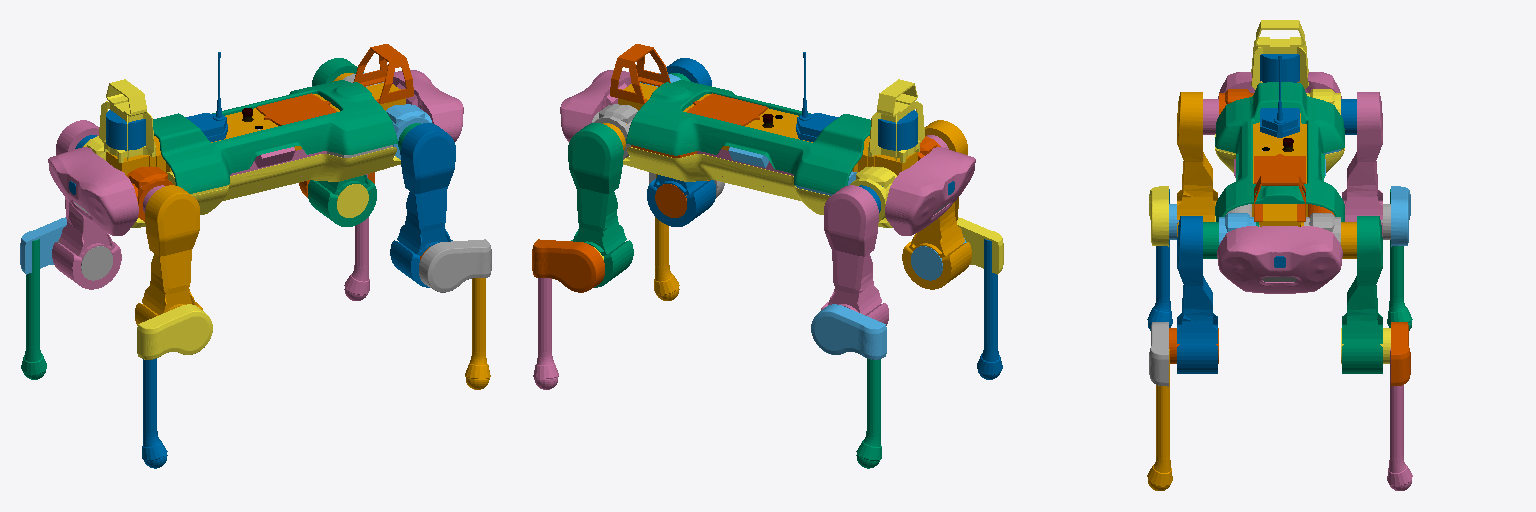
--- Render facts (derived) ---
3 views of the same robot in one strip: view 1: azimuth 30°, elevation 25°; view 2: azimuth 150°, elevation 25°; view 3: azimuth 270°, elevation 25° (orthographic).
Robot: anymal — 78 links, 77 joints (12 revolute, 65 fixed); root link base; default pose: all joints at 0.
Links seen in each view (by area): view 1: top_shell, RF_thigh_fixed, RH_thigh_fixed, face_rear, bottom_shell, LH_thigh_fixed, RH_shank_fixed, RF_shank_fixed, LF_thigh_fixed, lidar_cage, base, face_front (+13 smaller); view 2: top_shell, LF_thigh_fixed, LH_thigh_fixed, face_rear, bottom_shell, RH_thigh_fixed, LH_shank_fixed, LF_shank_fixed, RF_thigh_fixed, lidar_cage, base, face_front (+13 smaller); view 3: top_shell, face_front, LF_thigh_fixed, RF_thigh_fixed, RH_thigh_fixed, LH_thigh_fixed, base, lidar_cage, LF_FOOT, RF_FOOT, LH_FOOT, RH_FOOT (+14 smaller).
Link boxes in pixels (x1,y1,x2,y2): top_shell: (153,80,397,193); RF_thigh_fixed: (390,123,455,287); RH_thigh_fixed: (135,185,202,325); face_rear: (48,147,138,235); bottom_shell: (131,147,400,227); LH_thigh_fixed: (52,120,121,289); RH_shank_fixed: (137,304,212,359); RF_shank_fixed: (419,239,491,292); LF_thigh_fixed: (308,58,376,226); lidar_cage: (99,79,155,162); base: (106,83,405,175); face_front: (392,70,463,141); top_shell: (626,80,870,193); LF_thigh_fixed: (568,123,633,287); LH_thigh_fixed: (821,185,888,325); face_rear: (885,147,975,235); bottom_shell: (623,147,892,227); RH_thigh_fixed: (902,120,971,289); LH_shank_fixed: (811,304,886,359); LF_shank_fixed: (532,239,604,292); RF_thigh_fixed: (647,58,715,226); lidar_cage: (868,79,924,162); base: (618,83,917,175); face_front: (560,70,631,141); top_shell: (1215,82,1344,221); face_front: (1217,226,1342,293); LF_thigh_fixed: (1342,216,1382,373); RF_thigh_fixed: (1177,216,1217,373); RH_thigh_fixed: (1177,92,1217,236); LH_thigh_fixed: (1342,92,1382,236); base: (1252,113,1307,226); lidar_cage: (1251,20,1308,89); LF_FOOT: (1387,349,1412,490); RF_FOOT: (1147,349,1172,490); LH_FOOT: (1387,189,1412,330); RH_FOOT: (1147,189,1172,330).
Size in the robot's own frame: 1.05 by 0.6518 by 0.9164 metres.
Meshes: 19 distinct files referenced, 45 mesh visuals loaded (19 Collada DAE).

The robot description file, URDF, robot "anymal":
<?xml version="1.0" encoding="utf-8"?>
<!-- =================================================================================== -->
<!--   Copyright 2020 ANYbotics, https://www.anybotics.com                               -->
<!-- =================================================================================== -->
<!-- This file contains the description of the ANYmal C robot. -->
<robot name="anymal">
    <!-- Base link -->
    <link name="base">
        <visual>
            <origin rpy="0 0 0" xyz="0 0 0"/>
            <geometry>
                <mesh filename="package://pentapede/meshes/base.dae" scale="1.0 1.0 1.0"/>
            </geometry>
        </visual>
        <collision>
            <origin rpy="0 0 0" xyz="0 0 0"/>
            <geometry>
                <box size="0.58 0.14 0.18"/>
            </geometry>
        </collision>
        <collision>
            <origin rpy="0 1.57079632679 0" xyz="0.2175 0.07 0"/>
            <geometry>
                <cylinder length="0.145" radius="0.09"/>
            </geometry>
        </collision>
        <collision>
            <origin rpy="0 1.57079632679 0" xyz="-0.2175 0.07 0"/>
            <geometry>
                <cylinder length="0.145" radius="0.09"/>
            </geometry>
        </collision>
        <collision>
            <origin rpy="0 1.57079632679 0" xyz="0.2175 -0.07 0"/>
            <geometry>
                <cylinder length="0.145" radius="0.09"/>
            </geometry>
        </collision>
        <collision>
            <origin rpy="0 1.57079632679 0" xyz="-0.2175 -0.07 0"/>
            <geometry>
                <cylinder length="0.145" radius="0.09"/>
            </geometry>
        </collision>
        <!-- Shell self filtering -->
        <self_filter>
            <origin rpy="0 0 0" xyz="0 0 0"/>
            <geometry>
                <box size="1.05 0.5 0.5"/>
            </geometry>
        </self_filter>
    </link>
    <!-- Fixed joint to add dummy inertia link -->
    <joint name="base_to_base_inertia" type="fixed">
        <parent link="base"/>
        <child link="base_inertia"/>
        <origin rpy="0 0 0" xyz="0 0 0"/>
    </joint>
    <!-- Dummy inertia link, because KDL cannot have inertia on the base link -->
    <link name="base_inertia">
        <inertial>
            <origin rpy="0 0 0" xyz="-0.018 -0.002 0.024"/>
            <mass value="6.222"/>
            <inertia ixx="0.017938806" ixy="0.00387963" ixz="0.001500772" iyy="0.370887745" iyz="6.8963e-05" izz="0.372497653"/>
        </inertial>
    </link>
    <!-- Fixed joint base topshell -->
    <joint name="base_top_shell" type="fixed">
        <parent link="base"/>
        <child link="top_shell"/>
        <origin rpy="0 0 0" xyz="0 0 0"/>
    </joint>
    <!-- Top shell link -->
    <link name="top_shell">
        <visual>
            <origin rpy="0 0 0" xyz="0 0 0"/>
            <geometry>
                <mesh filename="package://pentapede/meshes/top_shell.dae" scale="1.0 1.0 1.0"/>
            </geometry>
        </visual>
        <inertial>
            <origin rpy="0 0 0" xyz="-0.00777 -0.00013 0.06523"/>
            <mass value="0.534"/>
            <inertia ixx="0.00664789486" ixy="1.247923e-05" ixz="0.00053990097" iyy="0.02587392411" iyz="3.7614e-07" izz="0.03152303792"/>
        </inertial>
    </link>
    <!-- Fixed joint base topshell -->
    <joint name="base_bottom_shell" type="fixed">
        <parent link="base"/>
        <child link="bottom_shell"/>
        <origin rpy="0 0 0" xyz="0 0 0"/>
    </joint>
    <!-- Bottom shell link -->
    <link name="bottom_shell">
        <visual>
            <origin rpy="0 0 0" xyz="0 0 0"/>
            <geometry>
                <mesh filename="package://pentapede/meshes/bottom_shell.dae" scale="1.0 1.0 1.0"/>
            </geometry>
        </visual>
        <inertial>
            <origin rpy="0 0 0" xyz="-0.00333 1e-05 -0.07705"/>
            <mass value="1.15"/>
            <inertia ixx="0.00927353677" ixy="5.41222e-06" ixz="9.039821e-05" iyy="0.06134388239" iyz="2.3042e-07" izz="0.06853531465"/>
        </inertial>
    </link>
    <!-- Fixed joint base remote -->
    <joint name="base_remote" type="fixed">
        <parent link="base"/>
        <child link="remote"/>
        <origin rpy="0 0 0" xyz="0 0 0"/>
    </joint>
    <!-- Remote link -->
    <link name="remote">
        <visual>
            <origin rpy="0 0 0" xyz="0 0 0"/>
            <geometry>
                <mesh filename="package://pentapede/meshes/remote.dae" scale="1.0 1.0 1.0"/>
            </geometry>
        </visual>
        <inertial>
            <origin rpy="0 0 0" xyz="-0.171 0.002 0.096"/>
            <mass value="0.3262"/>
            <inertia ixx="0.000528486" ixy="4.547e-05" ixz="1.10327e-05" iyy="0.001165035" iyz="7.4e-07" izz="0.00124026"/>
        </inertial>
    </link>
    <!-- Fixed joint base handle -->
    <joint name="base_handle" type="fixed">
        <parent link="base"/>
        <child link="handle"/>
        <origin rpy="0 0 0" xyz="0 0 0"/>
    </joint>
    <!-- Handle link -->
    <link name="handle">
        <visual>
            <origin rpy="0 0 0" xyz="0 0 0"/>
            <geometry>
                <mesh filename="package://pentapede/meshes/handle.dae" scale="1.0 1.0 1.0"/>
            </geometry>
        </visual>
        <inertial>
            <origin rpy="0 0 0" xyz="0.37801 0.0 0.1372"/>
            <mass value="0.314"/>
            <inertia ixx="0.001525739" ixy="0.0" ixz="6.272e-05" iyy="0.00071584" iyz="1e-09" izz="0.001164779"/>
        </inertial>
    </link>
    <!-- Fixed joint base face -->
    <joint name="base_face_front" type="fixed">
        <parent link="base"/>
        <child link="face_front"/>
        <origin rpy="0 0 -0.0" xyz="0.4145 0 0"/>
    </joint>
    <!-- Shell link -->
    <link name="face_front">
        <visual>
            <origin rpy="0 0 0" xyz="0 0 0"/>
            <geometry>
                <mesh filename="package://pentapede/meshes/face.dae" scale="1.0 1.0 1.0"/>
            </geometry>
        </visual>
        <collision>
            <origin rpy="0 0 0" xyz="0.055 0 0"/>
            <geometry>
                <box size="0.11 0.14 0.18"/>
            </geometry>
        </collision>
        <collision>
            <origin rpy="0 1.57079632679 0" xyz="0.055 0.07 0"/>
            <geometry>
                <cylinder length="0.11" radius="0.09"/>
            </geometry>
        </collision>
        <collision>
            <origin rpy="0 1.57079632679 0" xyz="0.055 -0.07 0"/>
            <geometry>
                <cylinder length="0.11" radius="0.09"/>
            </geometry>
        </collision>
        <inertial>
            <origin rpy="0 0 0" xyz="0.042 -0.001 0.004"/>
            <mass value="0.73"/>
            <inertia ixx="0.005238611" ixy="1.7609e-05" ixz="7.2167e-05" iyy="0.002643098" iyz="1.9548e-05" izz="0.004325938"/>
        </inertial>
    </link>
    <!-- Camera joint -->
    <!-- Is located between the two back screw holes at ground level. -->
    <joint name="face_front_to_depth_camera_front_camera" type="fixed">
        <parent link="face_front"/>
        <child link="depth_camera_front_camera"/>
        <origin rpy="0.0 0.523598775598 0" xyz="0.04715 0.0 -0.0292"/>
    </joint>
    <!-- Camera link -->
    <link name="depth_camera_front_camera">
        <visual>
            <origin rpy="0 0 0" xyz="0.0 0.0 0.0"/>
            <geometry>
                <mesh filename="package://pentapede/meshes/depth_camera.dae" scale="1.0 1.0 1.0"/>
            </geometry>
        </visual>
        <inertial>
            <origin rpy="0 0 0" xyz="-0.021 -0.002 0.025"/>
            <mass value="0.16043"/>
            <inertia ixx="0.000637051" ixy="0.000484569" ixz="0.000424211" iyy="0.000929402" iyz="5.138e-06" izz="0.000484569"/>
        </inertial>
    </link>
    <!-- Camera parent joint -->
    <!-- Frame lies on the left ir camera according to any_realsense2_camera urdf. -->
    <joint name="depth_camera_front_camera_to_camera_parent" type="fixed">
        <parent link="depth_camera_front_camera"/>
        <child link="depth_camera_front_camera_parent"/>
        <origin rpy="0.0 0.0 0.0" xyz="0.0255 0.0175 0.0"/>
    </joint>
    <!-- Camera parent link -->
    <link name="depth_camera_front_camera_parent"/>
    <!-- Depth optical frame joint -->
    <joint name="depth_camera_front_camera_parent_to_depth_optical_frame" type="fixed">
        <parent link="depth_camera_front_camera_parent"/>
        <child link="depth_camera_front_depth_optical_frame"/>
        <origin rpy="-1.57079632679 0.0 -1.57079632679" xyz="0.0 0.0 0.0"/>
    </joint>
    <!-- Depth optical frame link -->
    <link name="depth_camera_front_depth_optical_frame"/>
    <!-- Camera color frame joint -->
    <joint name="depth_camera_front_camera_parent_to_color_frame" type="fixed">
        <parent link="depth_camera_front_camera_parent"/>
        <child link="depth_camera_front_color_frame"/>
        <origin rpy="0 0 0" xyz="0 0.015 0"/>
    </joint>
    <!-- Camera color frame link -->
    <link name="depth_camera_front_color_frame"/>
    <!-- Camera color optical joint -->
    <joint name="depth_camera_front_color_frame_to_color_optical_frame" type="fixed">
        <parent link="depth_camera_front_color_frame"/>
        <child link="depth_camera_front_color_optical_frame"/>
        <origin rpy="-1.57079632679 0.0 -1.57079632679" xyz="0.0 0.0 0.0"/>
    </joint>
    <!-- Camera color optical link -->
    <link name="depth_camera_front_color_optical_frame"/>
    <!-- Camera joint -->
    <!-- Is located in the center of the mounting points. -->
    <joint name="face_front_to_wide_angle_camera_front_camera" type="fixed">
        <parent link="face_front"/>
        <child link="wide_angle_camera_front_camera"/>
        <origin rpy="0 0 0" xyz="0.09850 0.0 0.01497"/>
    </joint>
    <!-- Camera link -->
    <link name="wide_angle_camera_front_camera">
        <visual>
            <origin rpy="0 0 0" xyz="0.0 0.0 0.0"/>
            <geometry>
                <mesh filename="package://pentapede/meshes/wide_angle_camera.dae" scale="1.0 1.0 1.0"/>
            </geometry>
        </visual>
        <inertial>
            <origin rpy="0 0 0" xyz="-0.053 -0.001 0.025"/>
            <mass value="0.287"/>
            <inertia ixx="0.000559232" ixy="1.6875e-05" ixz="0.000423761" iyy="0.000946504" iyz="1.3234e-07" izz="0.000493052"/>
        </inertial>
    </link>
    <!-- Camera parent joint -->
    <joint name="wide_angle_camera_front_camera_to_camera_parent" type="fixed">
        <parent link="wide_angle_camera_front_camera"/>
        <child link="wide_angle_camera_front_camera_parent"/>
        <origin rpy="-1.57079632679 0.0 -1.57079632679" xyz="0.0 0.0 0.0"/>
    </joint>
    <!-- Camera parent link -->
    <link name="wide_angle_camera_front_camera_parent"/>
    <!-- Fixed joint base face -->
    <joint name="base_face_rear" type="fixed">
        <parent link="base"/>
        <child link="face_rear"/>
        <origin rpy="0 0 3.14159265359" xyz="-0.4145 0 0"/>
    </joint>
    <!-- Shell link -->
    <link name="face_rear">
        <visual>
            <origin rpy="0 0 0" xyz="0 0 0"/>
            <geometry>
                <mesh filename="package://pentapede/meshes/face.dae" scale="1.0 1.0 1.0"/>
            </geometry>
        </visual>
        <collision>
            <origin rpy="0 0 0" xyz="0.055 0 0"/>
            <geometry>
                <box size="0.11 0.14 0.18"/>
            </geometry>
        </collision>
        <collision>
            <origin rpy="0 1.57079632679 0" xyz="0.055 0.07 0"/>
            <geometry>
                <cylinder length="0.11" radius="0.09"/>
            </geometry>
        </collision>
        <collision>
            <origin rpy="0 1.57079632679 0" xyz="0.055 -0.07 0"/>
            <geometry>
                <cylinder length="0.11" radius="0.09"/>
            </geometry>
        </collision>
        <inertial>
            <origin rpy="0 0 0" xyz="0.042 -0.001 0.004"/>
            <mass value="0.73"/>
            <inertia ixx="0.005238611" ixy="1.7609e-05" ixz="7.2167e-05" iyy="0.002643098" iyz="1.9548e-05" izz="0.004325938"/>
        </inertial>
    </link>
    <!-- Camera joint -->
    <!-- Is located between the two back screw holes at ground level. -->
    <joint name="face_rear_to_depth_camera_rear_camera" type="fixed">
        <parent link="face_rear"/>
        <child link="depth_camera_rear_camera"/>
        <origin rpy="0.0 0.523598775598 0" xyz="0.04715 0.0 -0.0292"/>
    </joint>
    <!-- Camera link -->
    <link name="depth_camera_rear_camera">
        <visual>
            <origin rpy="0 0 0" xyz="0.0 0.0 0.0"/>
            <geometry>
                <mesh filename="package://pentapede/meshes/depth_camera.dae" scale="1.0 1.0 1.0"/>
            </geometry>
        </visual>
        <inertial>
            <origin rpy="0 0 0" xyz="-0.021 -0.002 0.025"/>
            <mass value="0.16043"/>
            <inertia ixx="0.000637051" ixy="0.000484569" ixz="0.000424211" iyy="0.000929402" iyz="5.138e-06" izz="0.000484569"/>
        </inertial>
    </link>
    <!-- Camera parent joint -->
    <!-- Frame lies on the left ir camera according to any_realsense2_camera urdf. -->
    <joint name="depth_camera_rear_camera_to_camera_parent" type="fixed">
        <parent link="depth_camera_rear_camera"/>
        <child link="depth_camera_rear_camera_parent"/>
        <origin rpy="0.0 0.0 0.0" xyz="0.0255 0.0175 0.0"/>
    </joint>
    <!-- Camera parent link -->
    <link name="depth_camera_rear_camera_parent"/>
    <!-- Depth optical frame joint -->
    <joint name="depth_camera_rear_camera_parent_to_depth_optical_frame" type="fixed">
        <parent link="depth_camera_rear_camera_parent"/>
        <child link="depth_camera_rear_depth_optical_frame"/>
        <origin rpy="-1.57079632679 0.0 -1.57079632679" xyz="0.0 0.0 0.0"/>
    </joint>
    <!-- Depth optical frame link -->
    <link name="depth_camera_rear_depth_optical_frame"/>
    <!-- Camera color frame joint -->
    <joint name="depth_camera_rear_camera_parent_to_color_frame" type="fixed">
        <parent link="depth_camera_rear_camera_parent"/>
        <child link="depth_camera_rear_color_frame"/>
        <origin rpy="0 0 0" xyz="0 0.015 0"/>
    </joint>
    <!-- Camera color frame link -->
    <link name="depth_camera_rear_color_frame"/>
    <!-- Camera color optical joint -->
    <joint name="depth_camera_rear_color_frame_to_color_optical_frame" type="fixed">
        <parent link="depth_camera_rear_color_frame"/>
        <child link="depth_camera_rear_color_optical_frame"/>
        <origin rpy="-1.57079632679 0.0 -1.57079632679" xyz="0.0 0.0 0.0"/>
    </joint>
    <!-- Camera color optical link -->
    <link name="depth_camera_rear_color_optical_frame"/>
    <!-- Camera joint -->
    <!-- Is located in the center of the mounting points. -->
    <joint name="face_rear_to_wide_angle_camera_rear_camera" type="fixed">
        <parent link="face_rear"/>
        <child link="wide_angle_camera_rear_camera"/>
        <origin rpy="0 0 0" xyz="0.09850 0.0 0.01497"/>
    </joint>
    <!-- Camera link -->
    <link name="wide_angle_camera_rear_camera">
        <visual>
            <origin rpy="0 0 0" xyz="0.0 0.0 0.0"/>
            <geometry>
                <mesh filename="package://pentapede/meshes/wide_angle_camera.dae" scale="1.0 1.0 1.0"/>
            </geometry>
        </visual>
        <inertial>
            <origin rpy="0 0 0" xyz="-0.053 -0.001 0.025"/>
            <mass value="0.287"/>
            <inertia ixx="0.000559232" ixy="1.6875e-05" ixz="0.000423761" iyy="0.000946504" iyz="1.3234e-07" izz="0.000493052"/>
        </inertial>
    </link>
    <!-- Camera parent joint -->
    <joint name="wide_angle_camera_rear_camera_to_camera_parent" type="fixed">
        <parent link="wide_angle_camera_rear_camera"/>
        <child link="wide_angle_camera_rear_camera_parent"/>
        <origin rpy="-1.57079632679 0.0 -1.57079632679" xyz="0.0 0.0 0.0"/>
    </joint>
    <!-- Camera parent link -->
    <link name="wide_angle_camera_rear_camera_parent"/>
    <!-- Fixed joint base battery -->
    <joint name="base_battery" type="fixed">
        <parent link="base"/>
        <child link="battery"/>
        <origin rpy="0 0 0" xyz="0 0 0"/>
    </joint>
    <!-- Shell link -->
    <link name="battery">
        <visual>
            <origin rpy="0 0 0" xyz="0 0 0"/>
            <geometry>
                <mesh filename="package://pentapede/meshes/battery.dae" scale="1.0 1.0 1.0"/>
            </geometry>
        </visual>
        <inertial>
            <origin rpy="0 0 0" xyz="-0.00067 -0.00023 -0.03362"/>
            <mass value="5.53425"/>
            <inertia ixx="0.00749474794" ixy="0.00016686282" ixz="7.82763e-05" iyy="0.0722338913" iyz="1.42902e-06" izz="0.07482717535"/>
        </inertial>
    </link>
    <!-- Fixed joint to add docking  -->
    <joint name="base_to_docking_hatch_cover" type="fixed">
        <parent link="base"/>
        <child link="docking_hatch_cover"/>
        <origin rpy="0 0 0" xyz="0.343 0.0 -0.07"/>
    </joint>
    <!-- Hatch cover link -->
    <link name="docking_hatch_cover">
        <!--  TODO(fgiraldez): add visual    -->
        <inertial>
            <origin rpy="0 0 0" xyz="-0.003 0.0 0.005"/>
            <mass value="0.065"/>
            <inertia ixx="0.00063283" ixy="0.0" ixz="3.45e-07" iyy="0.00110971" iyz="0.0" izz="0.00171883"/>
        </inertial>
    </link>
    <link name="imu_link">
        <visual>
            <origin rpy="0 0 0" xyz="0 0 0.005"/>
            <geometry>
                <box size="0.024 0.024 0.01"/>
            </geometry>
            <material name="orange"/>
        </visual>
        <collision>
            <origin rpy="0 0 0" xyz="0 0 0.005"/>
            <geometry>
                <box size="0.024 0.024 0.01"/>
            </geometry>
        </collision>
        <inertial>
            <mass value="0.01"/>
            <origin xyz="0 0 0"/>
            <inertia ixx="5.63333333333e-07" ixy="0.0" ixz="0.0" iyy="9.6e-07" iyz="0.0" izz="5.63333333333e-07"/>
        </inertial>
    </link>
    <joint name="imu_joint" type="fixed">
        <parent link="base"/>
        <child link="imu_link"/>
        <origin rpy="0.0 0.0 1.57079632679" xyz="0.2488 0.00835 0.04628"/>
    </joint>
    <!-- Camera joint -->
    <!-- Is located between the two back screw holes at ground level. -->
    <joint name="base_to_depth_camera_left_camera" type="fixed">
        <parent link="base"/>
        <child link="depth_camera_left_camera"/>
        <origin rpy="0.0 0.523598775598 1.57079632679" xyz="0.0 0.07646 0.02905"/>
    </joint>
    <!-- Camera link -->
    <link name="depth_camera_left_camera">
        <visual>
            <origin rpy="0 0 0" xyz="0.0 0.0 0.0"/>
            <geometry>
                <mesh filename="package://pentapede/meshes/depth_camera.dae" scale="1.0 1.0 1.0"/>
            </geometry>
        </visual>
        <inertial>
            <origin rpy="0 0 0" xyz="-0.021 -0.002 0.025"/>
            <mass value="0.16043"/>
            <inertia ixx="0.000637051" ixy="0.000484569" ixz="0.000424211" iyy="0.000929402" iyz="5.138e-06" izz="0.000484569"/>
        </inertial>
    </link>
    <!-- Camera parent joint -->
    <!-- Frame lies on the left ir camera according to any_realsense2_camera urdf. -->
    <joint name="depth_camera_left_camera_to_camera_parent" type="fixed">
        <parent link="depth_camera_left_camera"/>
        <child link="depth_camera_left_camera_parent"/>
        <origin rpy="0.0 0.0 0.0" xyz="0.0255 0.0175 0.0"/>
    </joint>
    <!-- Camera parent link -->
    <link name="depth_camera_left_camera_parent"/>
    <!-- Depth optical frame joint -->
    <joint name="depth_camera_left_camera_parent_to_depth_optical_frame" type="fixed">
        <parent link="depth_camera_left_camera_parent"/>
        <child link="depth_camera_left_depth_optical_frame"/>
        <origin rpy="-1.57079632679 0.0 -1.57079632679" xyz="0.0 0.0 0.0"/>
    </joint>
    <!-- Depth optical frame link -->
    <link name="depth_camera_left_depth_optical_frame"/>
    <!-- Camera color frame joint -->
    <joint name="depth_camera_left_camera_parent_to_color_frame" type="fixed">
        <parent link="depth_camera_left_camera_parent"/>
        <child link="depth_camera_left_color_frame"/>
        <origin rpy="0 0 0" xyz="0 0.015 0"/>
    </joint>
    <!-- Camera color frame link -->
    <link name="depth_camera_left_color_frame"/>
    <!-- Camera color optical joint -->
    <joint name="depth_camera_left_color_frame_to_color_optical_frame" type="fixed">
        <parent link="depth_camera_left_color_frame"/>
        <child link="depth_camera_left_color_optical_frame"/>
        <origin rpy="-1.57079632679 0.0 -1.57079632679" xyz="0.0 0.0 0.0"/>
    </joint>
    <!-- Camera color optical link -->
    <link name="depth_camera_left_color_optical_frame"/>
    <!-- Camera joint -->
    <!-- Is located between the two back screw holes at ground level. -->
    <joint name="base_to_depth_camera_right_camera" type="fixed">
        <parent link="base"/>
        <child link="depth_camera_right_camera"/>
        <origin rpy="0.0 0.523598775598 -1.57079632679" xyz="0.0 -0.07646 0.02905"/>
    </joint>
    <!-- Camera link -->
    <link name="depth_camera_right_camera">
        <visual>
            <origin rpy="0 0 0" xyz="0.0 0.0 0.0"/>
            <geometry>
                <mesh filename="package://pentapede/meshes/depth_camera.dae" scale="1.0 1.0 1.0"/>
            </geometry>
        </visual>
        <inertial>
            <origin rpy="0 0 0" xyz="-0.021 -0.002 0.025"/>
            <mass value="0.16043"/>
            <inertia ixx="0.000637051" ixy="0.000484569" ixz="0.000424211" iyy="0.000929402" iyz="5.138e-06" izz="0.000484569"/>
        </inertial>
    </link>
    <!-- Camera parent joint -->
    <!-- Frame lies on the left ir camera according to any_realsense2_camera urdf. -->
    <joint name="depth_camera_right_camera_to_camera_parent" type="fixed">
        <parent link="depth_camera_right_camera"/>
        <child link="depth_camera_right_camera_parent"/>
        <origin rpy="0.0 0.0 0.0" xyz="0.0255 0.0175 0.0"/>
    </joint>
    <!-- Camera parent link -->
    <link name="depth_camera_right_camera_parent"/>
    <!-- Depth optical frame joint -->
    <joint name="depth_camera_right_camera_parent_to_depth_optical_frame" type="fixed">
        <parent link="depth_camera_right_camera_parent"/>
        <child link="depth_camera_right_depth_optical_frame"/>
        <origin rpy="-1.57079632679 0.0 -1.57079632679" xyz="0.0 0.0 0.0"/>
    </joint>
    <!-- Depth optical frame link -->
    <link name="depth_camera_right_depth_optical_frame"/>
    <!-- Camera color frame joint -->
    <joint name="depth_camera_right_camera_parent_to_color_frame" type="fixed">
        <parent link="depth_camera_right_camera_parent"/>
        <child link="depth_camera_right_color_frame"/>
        <origin rpy="0 0 0" xyz="0 0.015 0"/>
    </joint>
    <!-- Camera color frame link -->
    <link name="depth_camera_right_color_frame"/>
    <!-- Camera color optical joint -->
    <joint name="depth_camera_right_color_frame_to_color_optical_frame" type="fixed">
        <parent link="depth_camera_right_color_frame"/>
        <child link="depth_camera_right_color_optical_frame"/>
        <origin rpy="-1.57079632679 0.0 -1.57079632679" xyz="0.0 0.0 0.0"/>
    </joint>
    <!-- Camera color optical link -->
    <link name="depth_camera_right_color_optical_frame"/>
    <!-- parent to cage joint, located between mounting plate on trunk and the cage -->
    <joint name="base_to_lidar_cage" type="fixed">
        <parent link="base"/>
        <child link="lidar_cage"/>
        <origin rpy="0 0 0" xyz="-0.364 0.0 0.0735"/>
    </joint>
    <!-- Velodyne cage link -->
    <link name="lidar_cage">
        <visual>
            <origin rpy="0.0 0.0 0.0" xyz="0.0 0.0 0.0"/>
            <geometry>
                <mesh filename="package://pentapede/meshes/lidar_cage.dae" scale="1.0 1.0 1.0"/>
            </geometry>
        </visual>
        <collision>
            <origin rpy="0 0 0" xyz="0 0 0.06"/>
            <geometry>
                <cylinder length="0.12" radius="0.07"/>
            </geometry>
        </collision>
        <inertial>
            <origin rpy="0.0 0.0 0.0" xyz="0.002 0.0 0.099"/>
            <mass value="0.545"/>
            <inertia ixx="0.003156254" ixy="0.0" ixz="1.0992e-05" iyy="0.002357216" iyz="0.0" izz="0.001326455"/>
        </inertial>
    </link>
    <!-- parent to sensor joint -->
    <joint name="lidar_cage_to_lidar" type="fixed">
        <parent link="lidar_cage"/>
        <child link="lidar"/>
        <origin rpy="0.0 0.0 -1.57079632679" xyz="0.0 0.0 0.0687"/>
    </joint>
    <!-- Velodyne sensor link -->
    <link name="lidar">
        <inertial>
            <origin rpy="0.0 0.0 0.0" xyz="-0.012 0.001 -0.008"/>
            <mass value="0.695"/>
            <inertia ixx="0.000846765" ixy="6.9565e-05" ixz="0.00027111" iyy="0.001367583" iyz="5.8984e-05" izz="0.001363673"/>
        </inertial>
        <visual>
            <origin xyz="0 0 0"/>
            <geometry>
                <mesh filename="package://pentapede/meshes/lidar.dae"/>
            </geometry>
        </visual>
    </link>
    <!-- joint base HAA -->
    <joint name="base_LF_HAA" type="fixed">
        <parent link="base"/>
        <child link="LF_HAA"/>
        <origin rpy="2.61799387799 0 0.0" xyz="0.2999 0.104 0.0"/>
    </joint>
    <!-- Drive link -->
    <link name="LF_HAA">
        <visual>
            <origin rpy="0 0 0" xyz="0 0 0"/>
            <geometry>
                <mesh filename="package://pentapede/meshes/drive.dae" scale="1.0 1.0 1.0"/>
            </geometry>
        </visual>
        <inertial>
            <origin rpy="0 0 0" xyz="-0.063 7e-05 0.00046"/>
            <mass value="2.04"/>
            <inertia ixx="0.001053013" ixy="4.527e-05" ixz="8.855e-05" iyy="0.001805509" iyz="9.909e-05" izz="0.001765827"/>
        </inertial>
    </link>
    <!-- joint Drive output -->
    <joint name="LF_HAA" type="revolute">
        <parent link="LF_HAA"/>
        <child link="LF_HIP"/>
        <origin rpy="0 0 0" xyz="0 0 0"/>
        <axis xyz="1 0 0"/>
        <limit effort="80.0" lower="-0.72" upper="0.49" velocity="20"/>
        <dynamics damping="0.0" friction="0.0"/>
    </joint>
    <!-- Drive output link -->
    <link name="LF_HIP">
        <inertial>
            <origin rpy="0 0 0" xyz="0 0 0"/>
            <mass value="0.001"/>
            <inertia ixx="0.000001" ixy="0.0" ixz="0.0" iyy="0.000001" iyz="0.0" izz="0.000001"/>
        </inertial>
    </link>
    <!-- joint HAA hip -->
    <joint name="LF_HIP_LF_hip_fixed" type="fixed">
        <parent link="LF_HIP"/>
        <child link="LF_hip_fixed"/>
        <origin rpy="-2.61799387799 0 0.0" xyz="0 0 0"/>
    </joint>
    <!-- Hip link -->
    <link name="LF_hip_fixed">
        <visual>
            <origin rpy="0 0 0.0" xyz="0 0 0"/>
            <geometry>
                <mesh filename="package://pentapede/meshes/hip_l.dae" scale="1.0 1.0 1.0"/>
            </geometry>
        </visual>
        <inertial>
            <origin rpy="0 0 0" xyz="0.048 0.008 -0.003"/>
            <mass value="0.74"/>
            <inertia ixx="0.001393106" ixy="8.4012e-05" ixz="2.3378e-05" iyy="0.003798579" iyz="7.1319e-05" izz="0.003897509"/>
        </inertial>
    </link>
    <!-- joint hip HFE -->
    <joint name="LF_hip_fixed_LF_HFE" type="fixed">
        <parent link="LF_hip_fixed"/>
        <child link="LF_HFE"/>
        <origin rpy="0 0 1.57079632679" xyz="0.0599 0.08381 0.0"/>
    </joint>
    <!-- Drive link -->
    <link name="LF_HFE">
        <visual>
            <origin rpy="0 0 0" xyz="0 0 0"/>
            <geometry>
                <mesh filename="package://pentapede/meshes/drive.dae" scale="1.0 1.0 1.0"/>
            </geometry>
        </visual>
        <collision>
            <origin rpy="0 1.57079632679 0" xyz="-0.07 0 0"/>
            <geometry>
                <cylinder length="0.14" radius="0.05"/>
            </geometry>
        </collision>
        <inertial>
            <origin rpy="0 0 0" xyz="-0.063 7e-05 0.00046"/>
            <mass value="2.04"/>
            <inertia ixx="0.001053013" ixy="4.527e-05" ixz="8.855e-05" iyy="0.001805509" iyz="9.909e-05" izz="0.001765827"/>
        </inertial>
    </link>
    <!-- joint Drive output -->
    <joint name="LF_HFE" type="revolute">
        <parent link="LF_HFE"/>
        <child link="LF_THIGH"/>
        <origin rpy="0 0 0" xyz="0 0 0"/>
        <axis xyz="1 0 0"/>
        <limit effort="80.0" lower="-9.42477796077" upper="9.42477796077" velocity="20"/>
        <dynamics damping="0.0" friction="0.0"/>
    </joint>
    <!-- Drive output link -->
    <link name="LF_THIGH">
        <inertial>
            <origin rpy="0 0 0" xyz="0 0 0"/>
            <mass value="0.001"/>
            <inertia ixx="0.000001" ixy="0.0" ixz="0.0" iyy="0.000001" iyz="0.0" izz="0.000001"/>
        </inertial>
    </link>
    <!-- joint HFE thigh -->
    <joint name="LF_THIGH_LF_thigh_fixed" type="fixed">
        <parent link="LF_THIGH"/>
        <child link="LF_thigh_fixed"/>
        <origin rpy="0 0 -1.57079632679" xyz="0 0 0"/>
    </joint>
    <!-- Thigh link -->
    <link name="LF_thigh_fixed">
        <visual>
            <origin rpy="0 0 0.0" xyz="0 0 0"/>
            <geometry>
                <mesh filename="package://pentapede/meshes/thigh.dae" scale="1.0 1.0 1.0"/>
            </geometry>
        </visual>
        <!-- Thigh collision -->
        <collision>
            <origin rpy="1.57079632679 0 0" xyz="0 0.04 0"/>
            <geometry>
                <cylinder length="0.08" radius="0.065"/>
            </geometry>
        </collision>
        <collision>
            <origin rpy="0 0 0" xyz="0 0.03 -0.1413135"/>
            <geometry>
                <box size="0.075 0.06 0.282627"/>
            </geometry>
        </collision>
        <inertial>
            <origin rpy="0 0 0" xyz="0.0 0.018 -0.169"/>
            <mass value="1.03"/>
            <inertia ixx="0.018644469" ixy="5.2e-08" ixz="1.0157e-05" iyy="0.019312599" iyz="0.002520077" izz="0.002838361"/>
        </inertial>
    </link>
    <!-- joint thigh KFE -->
    <joint name="LF_thigh_fixed_LF_KFE" type="fixed">
        <parent link="LF_thigh_fixed"/>
        <child link="LF_KFE"/>
        <origin rpy="0 0 1.57079632679" xyz="0.0 0.1003 -0.285"/>
    </joint>
    <!-- Drive link -->
    <link name="LF_KFE">
        <visual>
            <origin rpy="0 0 0" xyz="0 0 0"/>
            <geometry>
                <mesh filename="package://pentapede/meshes/drive.dae" scale="1.0 1.0 1.0"/>
            </geometry>
        </visual>
        <collision>
            <origin rpy="0 1.57079632679 0" xyz="-0.07 0 0"/>
            <geometry>
                <cylinder length="0.14" radius="0.05"/>
            </geometry>
        </collision>
        <inertial>
            <origin rpy="0 0 0" xyz="-0.063 7e-05 0.00046"/>
            <mass value="2.04"/>
            <inertia ixx="0.001053013" ixy="4.527e-05" ixz="8.855e-05" iyy="0.001805509" iyz="9.909e-05" izz="0.001765827"/>
        </inertial>
    </link>
    <!-- joint Drive output -->
    <joint name="LF_KFE" type="revolute">
        <parent link="LF_KFE"/>
        <child link="LF_SHANK"/>
        <origin rpy="0 0 0" xyz="0 0 0"/>
        <axis xyz="1 0 0"/>
        <limit effort="80.0" lower="-9.42477796077" upper="9.42477796077" velocity="20"/>
        <dynamics damping="0.0" friction="0.0"/>
    </joint>
    <!-- Drive output link -->
    <link name="LF_SHANK">
        <inertial>
            <origin rpy="0 0 0" xyz="0 0 0"/>
            <mass value="0.001"/>
            <inertia ixx="0.000001" ixy="0.0" ixz="0.0" iyy="0.000001" iyz="0.0" izz="0.000001"/>
        </inertial>
    </link>
    <!-- joint KFE shank -->
    <joint name="LF_shank_LF_shank_fixed" type="fixed">
        <parent link="LF_SHANK"/>
        <child link="LF_shank_fixed"/>
        <origin rpy="0 0 -1.57079632679" xyz="0 0 0"/>
    </joint>
    <!-- Shank link -->
    <link name="LF_shank_fixed">
        <visual>
            <origin rpy="0 0 0.0" xyz="0 0 0"/>
            <geometry>
                <mesh filename="package://pentapede/meshes/shank_l.dae" scale="1.0 1.0 1.0"/>
            </geometry>
        </visual>
        <!-- Shank collision -->
        <!-- <collision>
            <origin rpy="1.57079632679 0 0" xyz="0 0.02 0"/>
            <geometry>
                <cylinder length="0.04" radius="0.06"/>
            </geometry>
        </collision>
        <collision>
            <origin rpy="1.57079632679 0 0" xyz="0.057499 0.02 0"/>
            <geometry>
                <box size="0.114998 0.0675 0.04"/>
            </geometry>
        </collision> -->
        <inertial>
            <origin rpy="0 0 0" xyz="0.03463 0.00688 0.00098"/>
            <mass value="0.33742"/>
            <inertia ixx="0.00032748005" ixy="2.142561e-05" ixz="1.33942e-05" iyy="0.00110974122" iyz="7.601e-08" izz="0.00089388521"/>
        </inertial>
    </link>
    <!-- Leg configurations: xx (knees bent inwards), xo (knees bent backwards) -->
    <!-- joint shank foot -->
    <joint name="LF_shank_fixed_LF_FOOT" type="fixed">
        <parent link="LF_shank_fixed"/>
        <child link="LF_FOOT"/>
        <origin rpy="0 0 0" xyz="0.08795 0.01305 -0.33797"/>
    </joint>
    <!-- Foot link -->
    <link name="LF_FOOT">
        <visual>
            <origin rpy="0 0 -0.785398163397" xyz="0 0 0"/>
            <geometry>
                <mesh filename="package://pentapede/meshes/foot.dae" scale="1.0 1.0 1.0"/>
            </geometry>
        </visual>
        <!-- Adapter collision -->
        <collision>
            <origin rpy="0 0 0" xyz="0 0 0.168985"/>
            <geometry>
                <cylinder length="0.282504" radius="0.0175"/>
            </geometry>
        </collision>
        <!-- Foot collision -->
        <collision>
            <origin xyz="0 0 0.0225"/>
            <geometry>
                <sphere radius="0.03"/>
            </geometry>
        </collision>
        <inertial>
            <origin rpy="0 0 0" xyz="0.00948 -0.00948 0.1468"/>
            <mass value="0.25"/>
            <inertia ixx="0.00317174097" ixy="2.63048e-06" ixz="6.815581e-05" iyy="0.00317174092" iyz="6.815583e-05" izz="8.319196e-05"/>
        </inertial>
    </link>
    <!-- joint base HAA -->
    <joint name="base_RF_HAA" type="fixed">
        <parent link="base"/>
        <child link="RF_HAA"/>
        <origin rpy="-2.61799387799 0 0.0" xyz="0.2999 -0.104 0.0"/>
    </joint>
    <!-- Drive link -->
    <link name="RF_HAA">
        <visual>
            <origin rpy="0 0 0" xyz="0 0 0"/>
            <geometry>
                <mesh filename="package://pentapede/meshes/drive.dae" scale="1.0 1.0 1.0"/>
            </geometry>
        </visual>
        <inertial>
            <origin rpy="0 0 0" xyz="-0.063 7e-05 0.00046"/>
            <mass value="2.04"/>
            <inertia ixx="0.001053013" ixy="4.527e-05" ixz="8.855e-05" iyy="0.001805509" iyz="9.909e-05" izz="0.001765827"/>
        </inertial>
    </link>
    <!-- joint Drive output -->
    <joint name="RF_HAA" type="revolute">
        <parent link="RF_HAA"/>
        <child link="RF_HIP"/>
        <origin rpy="0 0 0" xyz="0 0 0"/>
        <axis xyz="1 0 0"/>
        <limit effort="80.0" lower="-0.49" upper="0.72" velocity="20"/>
        <dynamics damping="0.0" friction="0.0"/>
    </joint>
    <!-- Drive output link -->
    <link name="RF_HIP">
        <inertial>
            <origin rpy="0 0 0" xyz="0 0 0"/>
            <mass value="0.001"/>
            <inertia ixx="0.000001" ixy="0.0" ixz="0.0" iyy="0.000001" iyz="0.0" izz="0.000001"/>
        </inertial>
    </link>
    <!-- joint HAA hip -->
    <joint name="RF_HIP_RF_hip_fixed" type="fixed">
        <parent link="RF_HIP"/>
        <child link="RF_hip_fixed"/>
        <origin rpy="2.61799387799 0 0.0" xyz="0 0 0"/>
    </joint>
    <!-- Hip link -->
    <link name="RF_hip_fixed">
        <visual>
            <origin rpy="0 0 0.0" xyz="0 0 0"/>
            <geometry>
                <mesh filename="package://pentapede/meshes/hip_r.dae" scale="1.0 1.0 1.0"/>
            </geometry>
        </visual>
        <inertial>
            <origin rpy="0 0 0" xyz="0.048 -0.008 -0.003"/>
            <mass value="0.74"/>
            <inertia ixx="0.001393106" ixy="-8.4012e-05" ixz="2.3378e-05" iyy="0.003798579" iyz="-7.1319e-05" izz="0.003897509"/>
        </inertial>
    </link>
    <!-- joint hip HFE -->
    <joint name="RF_hip_fixed_RF_HFE" type="fixed">
        <parent link="RF_hip_fixed"/>
        <child link="RF_HFE"/>
        <origin rpy="0 0 -1.57079632679" xyz="0.0599 -0.08381 0.0"/>
    </joint>
    <!-- Drive link -->
    <link name="RF_HFE">
        <visual>
            <origin rpy="0 0 0" xyz="0 0 0"/>
            <geometry>
                <mesh filename="package://pentapede/meshes/drive.dae" scale="1.0 1.0 1.0"/>
            </geometry>
        </visual>
        <collision>
            <origin rpy="0 1.57079632679 0" xyz="-0.07 0 0"/>
            <geometry>
                <cylinder length="0.14" radius="0.05"/>
            </geometry>
        </collision>
        <inertial>
            <origin rpy="0 0 0" xyz="-0.063 7e-05 0.00046"/>
            <mass value="2.04"/>
            <inertia ixx="0.001053013" ixy="4.527e-05" ixz="8.855e-05" iyy="0.001805509" iyz="9.909e-05" izz="0.001765827"/>
        </inertial>
    </link>
    <!-- joint Drive output -->
    <joint name="RF_HFE" type="revolute">
        <parent link="RF_HFE"/>
        <child link="RF_THIGH"/>
        <origin rpy="0 0 0" xyz="0 0 0"/>
        <axis xyz="-1 0 0"/>
        <limit effort="80.0" lower="-9.42477796077" upper="9.42477796077" velocity="20"/>
        <dynamics damping="0.0" friction="0.0"/>
    </joint>
    <!-- Drive output link -->
    <link name="RF_THIGH">
        <inertial>
            <origin rpy="0 0 0" xyz="0 0 0"/>
            <mass value="0.001"/>
            <inertia ixx="0.000001" ixy="0.0" ixz="0.0" iyy="0.000001" iyz="0.0" izz="0.000001"/>
        </inertial>
    </link>
    <!-- joint HFE thigh -->
    <joint name="RF_THIGH_RF_thigh_fixed" type="fixed">
        <parent link="RF_THIGH"/>
        <child link="RF_thigh_fixed"/>
        <origin rpy="0 0 1.57079632679" xyz="0 0 0"/>
    </joint>
    <!-- Thigh link -->
    <link name="RF_thigh_fixed">
        <visual>
            <origin rpy="0 0 -3.14159265359" xyz="0 0 0"/>
            <geometry>
                <mesh filename="package://pentapede/meshes/thigh.dae" scale="1.0 1.0 1.0"/>
            </geometry>
        </visual>
        <!-- Thigh collision -->
        <collision>
            <origin rpy="1.57079632679 0 0" xyz="0 -0.04 0"/>
            <geometry>
                <cylinder length="0.08" radius="0.065"/>
            </geometry>
        </collision>
        <collision>
            <origin rpy="0 0 0" xyz="0 -0.03 -0.1413135"/>
            <geometry>
                <box size="0.075 0.06 0.282627"/>
            </geometry>
        </collision>
        <inertial>
            <origin rpy="0 0 0" xyz="0.0 -0.018 -0.169"/>
            <mass value="1.03"/>
            <inertia ixx="0.018644469" ixy="-5.2e-08" ixz="1.0157e-05" iyy="0.019312599" iyz="-0.002520077" izz="0.002838361"/>
        </inertial>
    </link>
    <!-- joint thigh KFE -->
    <joint name="RF_thigh_fixed_RF_KFE" type="fixed">
        <parent link="RF_thigh_fixed"/>
        <child link="RF_KFE"/>
        <origin rpy="0 0 -1.57079632679" xyz="0.0 -0.1003 -0.285"/>
    </joint>
    <!-- Drive link -->
    <link name="RF_KFE">
        <visual>
            <origin rpy="0 0 0" xyz="0 0 0"/>
            <geometry>
                <mesh filename="package://pentapede/meshes/drive.dae" scale="1.0 1.0 1.0"/>
            </geometry>
        </visual>
        <collision>
            <origin rpy="0 1.57079632679 0" xyz="-0.07 0 0"/>
            <geometry>
                <cylinder length="0.14" radius="0.05"/>
            </geometry>
        </collision>
        <inertial>
            <origin rpy="0 0 0" xyz="-0.063 7e-05 0.00046"/>
            <mass value="2.04"/>
            <inertia ixx="0.001053013" ixy="4.527e-05" ixz="8.855e-05" iyy="0.001805509" iyz="9.909e-05" izz="0.001765827"/>
        </inertial>
    </link>
    <!-- joint Drive output -->
    <joint name="RF_KFE" type="revolute">
        <parent link="RF_KFE"/>
        <child link="RF_SHANK"/>
        <origin rpy="0 0 0" xyz="0 0 0"/>
        <axis xyz="-1 0 0"/>
        <limit effort="80.0" lower="-9.42477796077" upper="9.42477796077" velocity="20"/>
        <dynamics damping="0.0" friction="0.0"/>
    </joint>
    <!-- Drive output link -->
    <link name="RF_SHANK">
        <inertial>
            <origin rpy="0 0 0" xyz="0 0 0"/>
            <mass value="0.001"/>
            <inertia ixx="0.000001" ixy="0.0" ixz="0.0" iyy="0.000001" iyz="0.0" izz="0.000001"/>
        </inertial>
    </link>
    <!-- joint KFE shank -->
    <joint name="RF_shank_RF_shank_fixed" type="fixed">
        <parent link="RF_SHANK"/>
        <child link="RF_shank_fixed"/>
        <origin rpy="0 0 1.57079632679" xyz="0 0 0"/>
    </joint>
    <!-- Shank link -->
    <link name="RF_shank_fixed">
        <visual>
            <origin rpy="0 0 0.0" xyz="0 0 0"/>
            <geometry>
                <mesh filename="package://pentapede/meshes/shank_r.dae" scale="1.0 1.0 1.0"/>
            </geometry>
        </visual>
        <!-- Shank collision -->
        <!-- <collision>
            <origin rpy="1.57079632679 0 0" xyz="0 -0.02 0"/>
            <geometry>
                <cylinder length="0.04" radius="0.06"/>
            </geometry>
        </collision>
        <collision>
            <origin rpy="1.57079632679 0 0" xyz="0.057499 -0.02 0"/>
            <geometry>
                <box size="0.114998 0.0675 0.04"/>
            </geometry>
        </collision> -->
        <inertial>
            <origin rpy="0 0 0" xyz="0.03463 -0.00688 0.00098"/>
            <mass value="0.33742"/>
            <inertia ixx="0.00032748005" ixy="-2.142561e-05" ixz="1.33942e-05" iyy="0.00110974122" iyz="-7.601e-08" izz="0.00089388521"/>
        </inertial>
    </link>
    <!-- Leg configurations: xx (knees bent inwards), xo (knees bent backwards) -->
    <!-- joint shank foot -->
    <joint name="RF_shank_fixed_RF_FOOT" type="fixed">
        <parent link="RF_shank_fixed"/>
        <child link="RF_FOOT"/>
        <origin rpy="0 0 0" xyz="0.08795 -0.01305 -0.33797"/>
    </joint>
    <!-- Foot link -->
    <link name="RF_FOOT">
        <visual>
            <origin rpy="0 0 0.785398163397" xyz="0 0 0"/>
            <geometry>
                <mesh filename="package://pentapede/meshes/foot.dae" scale="1.0 1.0 1.0"/>
            </geometry>
        </visual>
        <!-- Adapter collision -->
        <collision>
            <origin rpy="0 0 0" xyz="0 0 0.168985"/>
            <geometry>
                <cylinder length="0.282504" radius="0.0175"/>
            </geometry>
        </collision>
        <!-- Foot collision -->
        <collision>
            <origin xyz="0 0 0.0225"/>
            <geometry>
                <sphere radius="0.03"/>
            </geometry>
        </collision>
        <inertial>
            <origin rpy="0 0 0" xyz="0.00948 0.00948 0.1468"/>
            <mass value="0.25"/>
            <inertia ixx="0.00317174097" ixy="-2.63048e-06" ixz="6.815581e-05" iyy="0.00317174092" iyz="-6.815583e-05" izz="8.319196e-05"/>
        </inertial>
    </link>
    <!-- joint base HAA -->
    <joint name="base_LH_HAA" type="fixed">
        <parent link="base"/>
        <child link="LH_HAA"/>
        <origin rpy="-2.61799387799 0 -3.14159265359" xyz="-0.2999 0.104 0.0"/>
    </joint>
    <!-- Drive link -->
    <link name="LH_HAA">
        <visual>
            <origin rpy="0 0 0" xyz="0 0 0"/>
            <geometry>
                <mesh filename="package://pentapede/meshes/drive.dae" scale="1.0 1.0 1.0"/>
            </geometry>
        </visual>
        <inertial>
            <origin rpy="0 0 0" xyz="-0.063 7e-05 0.00046"/>
            <mass value="2.04"/>
            <inertia ixx="0.001053013" ixy="4.527e-05" ixz="8.855e-05" iyy="0.001805509" iyz="9.909e-05" izz="0.001765827"/>
        </inertial>
    </link>
    <!-- joint Drive output -->
    <joint name="LH_HAA" type="revolute">
        <parent link="LH_HAA"/>
        <child link="LH_HIP"/>
        <origin rpy="0 0 0" xyz="0 0 0"/>
        <axis xyz="-1 0 0"/>
        <limit effort="80.0" lower="-0.72" upper="0.49" velocity="20"/>
        <dynamics damping="0.0" friction="0.0"/>
    </joint>
    <!-- Drive output link -->
    <link name="LH_HIP">
        <inertial>
            <origin rpy="0 0 0" xyz="0 0 0"/>
            <mass value="0.001"/>
            <inertia ixx="0.000001" ixy="0.0" ixz="0.0" iyy="0.000001" iyz="0.0" izz="0.000001"/>
        </inertial>
    </link>
    <!-- joint HAA hip -->
    <joint name="LH_HIP_LH_hip_fixed" type="fixed">
        <parent link="LH_HIP"/>
        <child link="LH_hip_fixed"/>
        <origin rpy="-2.61799387799 0 -3.14159265359" xyz="0 0 0"/>
    </joint>
    <!-- Hip link -->
    <link name="LH_hip_fixed">
        <visual>
            <origin rpy="0 0 -3.14159265359" xyz="0 0 0"/>
            <geometry>
                <mesh filename="package://pentapede/meshes/hip_r.dae" scale="1.0 1.0 1.0"/>
            </geometry>
        </visual>
        <inertial>
            <origin rpy="0 0 0" xyz="-0.048 0.008 -0.003"/>
            <mass value="0.74"/>
            <inertia ixx="0.001393106" ixy="-8.4012e-05" ixz="-2.3378e-05" iyy="0.003798579" iyz="7.1319e-05" izz="0.003897509"/>
        </inertial>
    </link>
    <!-- joint hip HFE -->
    <joint name="LH_hip_fixed_LH_HFE" type="fixed">
        <parent link="LH_hip_fixed"/>
        <child link="LH_HFE"/>
        <origin rpy="0 0 1.57079632679" xyz="-0.0599 0.08381 0.0"/>
    </joint>
    <!-- Drive link -->
    <link name="LH_HFE">
        <visual>
            <origin rpy="0 0 0" xyz="0 0 0"/>
            <geometry>
                <mesh filename="package://pentapede/meshes/drive.dae" scale="1.0 1.0 1.0"/>
            </geometry>
        </visual>
        <collision>
            <origin rpy="0 1.57079632679 0" xyz="-0.07 0 0"/>
            <geometry>
                <cylinder length="0.14" radius="0.05"/>
            </geometry>
        </collision>
        <inertial>
            <origin rpy="0 0 0" xyz="-0.063 7e-05 0.00046"/>
            <mass value="2.04"/>
            <inertia ixx="0.001053013" ixy="4.527e-05" ixz="8.855e-05" iyy="0.001805509" iyz="9.909e-05" izz="0.001765827"/>
        </inertial>
    </link>
    <!-- joint Drive output -->
    <joint name="LH_HFE" type="revolute">
        <parent link="LH_HFE"/>
        <child link="LH_THIGH"/>
        <origin rpy="0 0 0" xyz="0 0 0"/>
        <axis xyz="1 0 0"/>
        <limit effort="80.0" lower="-9.42477796077" upper="9.42477796077" velocity="20"/>
        <dynamics damping="0.0" friction="0.0"/>
    </joint>
    <!-- Drive output link -->
    <link name="LH_THIGH">
        <inertial>
            <origin rpy="0 0 0" xyz="0 0 0"/>
            <mass value="0.001"/>
            <inertia ixx="0.000001" ixy="0.0" ixz="0.0" iyy="0.000001" iyz="0.0" izz="0.000001"/>
        </inertial>
    </link>
    <!-- joint HFE thigh -->
    <joint name="LH_THIGH_LH_thigh_fixed" type="fixed">
        <parent link="LH_THIGH"/>
        <child link="LH_thigh_fixed"/>
        <origin rpy="0 0 -1.57079632679" xyz="0 0 0"/>
    </joint>
    <!-- Thigh link -->
    <link name="LH_thigh_fixed">
        <visual>
            <origin rpy="0 0 0.0" xyz="0 0 0"/>
            <geometry>
                <mesh filename="package://pentapede/meshes/thigh.dae" scale="1.0 1.0 1.0"/>
            </geometry>
        </visual>
        <!-- Thigh collision -->
        <collision>
            <origin rpy="1.57079632679 0 0" xyz="0 0.04 0"/>
            <geometry>
                <cylinder length="0.08" radius="0.065"/>
            </geometry>
        </collision>
        <collision>
            <origin rpy="0 0 0" xyz="0 0.03 -0.1413135"/>
            <geometry>
                <box size="0.075 0.06 0.282627"/>
            </geometry>
        </collision>
        <inertial>
            <origin rpy="0 0 0" xyz="-0.0 0.018 -0.169"/>
            <mass value="1.03"/>
            <inertia ixx="0.018644469" ixy="-5.2e-08" ixz="-1.0157e-05" iyy="0.019312599" iyz="0.002520077" izz="0.002838361"/>
        </inertial>
    </link>
    <!-- joint thigh KFE -->
    <joint name="LH_thigh_fixed_LH_KFE" type="fixed">
        <parent link="LH_thigh_fixed"/>
        <child link="LH_KFE"/>
        <origin rpy="0 0 1.57079632679" xyz="-0.0 0.1003 -0.285"/>
    </joint>
    <!-- Drive link -->
    <link name="LH_KFE">
        <visual>
            <origin rpy="0 0 0" xyz="0 0 0"/>
            <geometry>
                <mesh filename="package://pentapede/meshes/drive.dae" scale="1.0 1.0 1.0"/>
            </geometry>
        </visual>
        <collision>
            <origin rpy="0 1.57079632679 0" xyz="-0.07 0 0"/>
            <geometry>
                <cylinder length="0.14" radius="0.05"/>
            </geometry>
        </collision>
        <inertial>
            <origin rpy="0 0 0" xyz="-0.063 7e-05 0.00046"/>
            <mass value="2.04"/>
            <inertia ixx="0.001053013" ixy="4.527e-05" ixz="8.855e-05" iyy="0.001805509" iyz="9.909e-05" izz="0.001765827"/>
        </inertial>
    </link>
    <!-- joint Drive output -->
    <joint name="LH_KFE" type="revolute">
        <parent link="LH_KFE"/>
        <child link="LH_SHANK"/>
        <origin rpy="0 0 0" xyz="0 0 0"/>
        <axis xyz="1 0 0"/>
        <limit effort="80.0" lower="-9.42477796077" upper="9.42477796077" velocity="20"/>
        <dynamics damping="0.0" friction="0.0"/>
    </joint>
    <!-- Drive output link -->
    <link name="LH_SHANK">
        <inertial>
            <origin rpy="0 0 0" xyz="0 0 0"/>
            <mass value="0.001"/>
            <inertia ixx="0.000001" ixy="0.0" ixz="0.0" iyy="0.000001" iyz="0.0" izz="0.000001"/>
        </inertial>
    </link>
    <!-- joint KFE shank -->
    <joint name="LH_shank_LH_shank_fixed" type="fixed">
        <parent link="LH_SHANK"/>
        <child link="LH_shank_fixed"/>
        <origin rpy="0 0 -1.57079632679" xyz="0 0 0"/>
    </joint>
    <!-- Shank link -->
    <link name="LH_shank_fixed">
        <visual>
            <origin rpy="0 0 -3.14159265359" xyz="0 0 0"/>
            <geometry>
                <mesh filename="package://pentapede/meshes/shank_r.dae" scale="1.0 1.0 1.0"/>
            </geometry>
        </visual>
        <!-- Shank collision -->
        <!-- <collision>
            <origin rpy="1.57079632679 0 0" xyz="0 0.02 0"/>
            <geometry>
                <cylinder length="0.04" radius="0.06"/>
            </geometry>
        </collision>
        <collision>
            <origin rpy="1.57079632679 0 0" xyz="-0.057499 0.02 0"/>
            <geometry>
                <box size="0.114998 0.0675 0.04"/>
            </geometry>
        </collision> -->
        <inertial>
            <origin rpy="0 0 0" xyz="-0.03463 0.00688 0.00098"/>
            <mass value="0.33742"/>
            <inertia ixx="0.00032748005" ixy="-2.142561e-05" ixz="-1.33942e-05" iyy="0.00110974122" iyz="7.601e-08" izz="0.00089388521"/>
        </inertial>
    </link>
    <!-- Leg configurations: xx (knees bent inwards), xo (knees bent backwards) -->
    <!-- joint shank foot -->
    <joint name="LH_shank_fixed_LH_FOOT" type="fixed">
        <parent link="LH_shank_fixed"/>
        <child link="LH_FOOT"/>
        <origin rpy="0 0 0" xyz="-0.08795 0.01305 -0.33797"/>
    </joint>
    <!-- Foot link -->
    <link name="LH_FOOT">
        <visual>
            <origin rpy="0 0 -2.35619449019" xyz="0 0 0"/>
            <geometry>
                <mesh filename="package://pentapede/meshes/foot.dae" scale="1.0 1.0 1.0"/>
            </geometry>
        </visual>
        <!-- Adapter collision -->
        <collision>
            <origin rpy="0 0 0" xyz="0 0 0.168985"/>
            <geometry>
                <cylinder length="0.282504" radius="0.0175"/>
            </geometry>
        </collision>
        <!-- Foot collision -->
        <collision>
            <origin xyz="0 0 0.0225"/>
            <geometry>
                <sphere radius="0.03"/>
            </geometry>
        </collision>
        <inertial>
            <origin rpy="0 0 0" xyz="-0.00948 -0.00948 0.1468"/>
            <mass value="0.25"/>
            <inertia ixx="0.00317174097" ixy="-2.63048e-06" ixz="-6.815581e-05" iyy="0.00317174092" iyz="6.815583e-05" izz="8.319196e-05"/>
        </inertial>
    </link>
    <!-- joint base HAA -->
    <joint name="base_RH_HAA" type="fixed">
        <parent link="base"/>
        <child link="RH_HAA"/>
        <origin rpy="2.61799387799 0 -3.14159265359" xyz="-0.2999 -0.104 0.0"/>
    </joint>
    <!-- Drive link -->
    <link name="RH_HAA">
        <visual>
            <origin rpy="0 0 0" xyz="0 0 0"/>
            <geometry>
                <mesh filename="package://pentapede/meshes/drive.dae" scale="1.0 1.0 1.0"/>
            </geometry>
        </visual>
        <inertial>
            <origin rpy="0 0 0" xyz="-0.063 7e-05 0.00046"/>
            <mass value="2.04"/>
            <inertia ixx="0.001053013" ixy="4.527e-05" ixz="8.855e-05" iyy="0.001805509" iyz="9.909e-05" izz="0.001765827"/>
        </inertial>
    </link>
    <!-- joint Drive output -->
    <joint name="RH_HAA" type="revolute">
        <parent link="RH_HAA"/>
        <child link="RH_HIP"/>
        <origin rpy="0 0 0" xyz="0 0 0"/>
        <axis xyz="-1 0 0"/>
        <limit effort="80.0" lower="-0.49" upper="0.72" velocity="20"/>
        <dynamics damping="0.0" friction="0.0"/>
    </joint>
    <!-- Drive output link -->
    <link name="RH_HIP">
        <inertial>
            <origin rpy="0 0 0" xyz="0 0 0"/>
            <mass value="0.001"/>
            <inertia ixx="0.000001" ixy="0.0" ixz="0.0" iyy="0.000001" iyz="0.0" izz="0.000001"/>
        </inertial>
    </link>
    <!-- joint HAA hip -->
    <joint name="RH_HIP_RH_hip_fixed" type="fixed">
        <parent link="RH_HIP"/>
        <child link="RH_hip_fixed"/>
        <origin rpy="2.61799387799 0 -3.14159265359" xyz="0 0 0"/>
    </joint>
    <!-- Hip link -->
    <link name="RH_hip_fixed">
        <visual>
            <origin rpy="0 0 -3.14159265359" xyz="0 0 0"/>
            <geometry>
                <mesh filename="package://pentapede/meshes/hip_l.dae" scale="1.0 1.0 1.0"/>
            </geometry>
        </visual>
        <inertial>
            <origin rpy="0 0 0" xyz="-0.048 -0.008 -0.003"/>
            <mass value="0.74"/>
            <inertia ixx="0.001393106" ixy="8.4012e-05" ixz="-2.3378e-05" iyy="0.003798579" iyz="-7.1319e-05" izz="0.003897509"/>
        </inertial>
    </link>
    <!-- joint hip HFE -->
    <joint name="RH_hip_fixed_RH_HFE" type="fixed">
        <parent link="RH_hip_fixed"/>
        <child link="RH_HFE"/>
        <origin rpy="0 0 -1.57079632679" xyz="-0.0599 -0.08381 0.0"/>
    </joint>
    <!-- Drive link -->
    <link name="RH_HFE">
        <visual>
            <origin rpy="0 0 0" xyz="0 0 0"/>
            <geometry>
                <mesh filename="package://pentapede/meshes/drive.dae" scale="1.0 1.0 1.0"/>
            </geometry>
        </visual>
        <collision>
            <origin rpy="0 1.57079632679 0" xyz="-0.07 0 0"/>
            <geometry>
                <cylinder length="0.14" radius="0.05"/>
            </geometry>
        </collision>
        <inertial>
            <origin rpy="0 0 0" xyz="-0.063 7e-05 0.00046"/>
            <mass value="2.04"/>
            <inertia ixx="0.001053013" ixy="4.527e-05" ixz="8.855e-05" iyy="0.001805509" iyz="9.909e-05" izz="0.001765827"/>
        </inertial>
    </link>
    <!-- joint Drive output -->
    <joint name="RH_HFE" type="revolute">
        <parent link="RH_HFE"/>
        <child link="RH_THIGH"/>
        <origin rpy="0 0 0" xyz="0 0 0"/>
        <axis xyz="-1 0 0"/>
        <limit effort="80.0" lower="-9.42477796077" upper="9.42477796077" velocity="20"/>
        <dynamics damping="0.0" friction="0.0"/>
    </joint>
    <!-- Drive output link -->
    <link name="RH_THIGH">
        <inertial>
            <origin rpy="0 0 0" xyz="0 0 0"/>
            <mass value="0.001"/>
            <inertia ixx="0.000001" ixy="0.0" ixz="0.0" iyy="0.000001" iyz="0.0" izz="0.000001"/>
        </inertial>
    </link>
    <!-- joint HFE thigh -->
    <joint name="RH_THIGH_RH_thigh_fixed" type="fixed">
        <parent link="RH_THIGH"/>
        <child link="RH_thigh_fixed"/>
        <origin rpy="0 0 1.57079632679" xyz="0 0 0"/>
    </joint>
    <!-- Thigh link -->
    <link name="RH_thigh_fixed">
        <visual>
            <origin rpy="0 0 -3.14159265359" xyz="0 0 0"/>
            <geometry>
                <mesh filename="package://pentapede/meshes/thigh.dae" scale="1.0 1.0 1.0"/>
            </geometry>
        </visual>
        <!-- Thigh collision -->
        <collision>
            <origin rpy="1.57079632679 0 0" xyz="0 -0.04 0"/>
            <geometry>
                <cylinder length="0.08" radius="0.065"/>
            </geometry>
        </collision>
        <collision>
            <origin rpy="0 0 0" xyz="0 -0.03 -0.1413135"/>
            <geometry>
                <box size="0.075 0.06 0.282627"/>
            </geometry>
        </collision>
        <inertial>
            <origin rpy="0 0 0" xyz="-0.0 -0.018 -0.169"/>
            <mass value="1.03"/>
            <inertia ixx="0.018644469" ixy="5.2e-08" ixz="-1.0157e-05" iyy="0.019312599" iyz="-0.002520077" izz="0.002838361"/>
        </inertial>
    </link>
    <!-- joint thigh KFE -->
    <joint name="RH_thigh_fixed_RH_KFE" type="fixed">
        <parent link="RH_thigh_fixed"/>
        <child link="RH_KFE"/>
        <origin rpy="0 0 -1.57079632679" xyz="-0.0 -0.1003 -0.285"/>
    </joint>
    <!-- Drive link -->
    <link name="RH_KFE">
        <visual>
            <origin rpy="0 0 0" xyz="0 0 0"/>
            <geometry>
                <mesh filename="package://pentapede/meshes/drive.dae" scale="1.0 1.0 1.0"/>
            </geometry>
        </visual>
        <collision>
            <origin rpy="0 1.57079632679 0" xyz="-0.07 0 0"/>
            <geometry>
                <cylinder length="0.14" radius="0.05"/>
            </geometry>
        </collision>
        <inertial>
            <origin rpy="0 0 0" xyz="-0.063 7e-05 0.00046"/>
            <mass value="2.04"/>
            <inertia ixx="0.001053013" ixy="4.527e-05" ixz="8.855e-05" iyy="0.001805509" iyz="9.909e-05" izz="0.001765827"/>
        </inertial>
    </link>
    <!-- joint Drive output -->
    <joint name="RH_KFE" type="revolute">
        <parent link="RH_KFE"/>
        <child link="RH_SHANK"/>
        <origin rpy="0 0 0" xyz="0 0 0"/>
        <axis xyz="-1 0 0"/>
        <limit effort="80.0" lower="-9.42477796077" upper="9.42477796077" velocity="20"/>
        <dynamics damping="0.0" friction="0.0"/>
    </joint>
    <!-- Drive output link -->
    <link name="RH_SHANK">
        <inertial>
            <origin rpy="0 0 0" xyz="0 0 0"/>
            <mass value="0.001"/>
            <inertia ixx="0.000001" ixy="0.0" ixz="0.0" iyy="0.000001" iyz="0.0" izz="0.000001"/>
        </inertial>
    </link>
    <!-- joint KFE shank -->
    <joint name="RH_shank_RH_shank_fixed" type="fixed">
        <parent link="RH_SHANK"/>
        <child link="RH_shank_fixed"/>
        <origin rpy="0 0 1.57079632679" xyz="0 0 0"/>
    </joint>
    <!-- Shank link -->
    <link name="RH_shank_fixed">
        <visual>
            <origin rpy="0 0 -3.14159265359" xyz="0 0 0"/>
            <geometry>
                <mesh filename="package://pentapede/meshes/shank_l.dae" scale="1.0 1.0 1.0"/>
            </geometry>
        </visual>
        <!-- Shank collision -->
        <!-- <collision>
            <origin rpy="1.57079632679 0 0" xyz="0 -0.02 0"/>
            <geometry>
                <cylinder length="0.04" radius="0.06"/>
            </geometry>
        </collision>
        <collision>
            <origin rpy="1.57079632679 0 0" xyz="-0.057499 -0.02 0"/>
            <geometry>
                <box size="0.114998 0.0675 0.04"/>
            </geometry>
        </collision> -->
        <inertial>
            <origin rpy="0 0 0" xyz="-0.03463 -0.00688 0.00098"/>
            <mass value="0.33742"/>
            <inertia ixx="0.00032748005" ixy="2.142561e-05" ixz="-1.33942e-05" iyy="0.00110974122" iyz="-7.601e-08" izz="0.00089388521"/>
        </inertial>
    </link>
    <!-- Leg configurations: xx (knees bent inwards), xo (knees bent backwards) -->
    <!-- joint shank foot -->
    <joint name="RH_shank_fixed_RH_FOOT" type="fixed">
        <parent link="RH_shank_fixed"/>
        <child link="RH_FOOT"/>
        <origin rpy="0 0 0" xyz="-0.08795 -0.01305 -0.33797"/>
    </joint>
    <!-- Foot link -->
    <link name="RH_FOOT">
        <visual>
            <origin rpy="0 0 -3.92699081699" xyz="0 0 0"/>
            <geometry>
                <mesh filename="package://pentapede/meshes/foot.dae" scale="1.0 1.0 1.0"/>
            </geometry>
        </visual>
        <!-- Adapter collision -->
        <collision>
            <origin rpy="0 0 0" xyz="0 0 0.168985"/>
            <geometry>
                <cylinder length="0.282504" radius="0.0175"/>
            </geometry>
        </collision>
        <!-- Foot collision -->
        <collision>
            <origin xyz="0 0 0.0225"/>
            <geometry>
                <sphere radius="0.03"/>
            </geometry>
        </collision>
        <inertial>
            <origin rpy="0 0 0" xyz="-0.00948 0.00948 0.1468"/>
            <mass value="0.25"/>
            <inertia ixx="0.00317174097" ixy="2.63048e-06" ixz="-6.815581e-05" iyy="0.00317174092" iyz="-6.815583e-05" izz="8.319196e-05"/>
        </inertial>
    </link>
    <!-- Fixed joint base hatch -->
    <joint name="base_hatch" type="fixed">
        <parent link="base"/>
        <child link="hatch"/>
        <origin rpy="0 0 0" xyz="0.0 0.0 0.0"/>
    </joint>
    <!-- Hatch link -->
    <link name="hatch">
        <visual>
            <origin rpy="0 0 0" xyz="0.116 0 0.073"/>
            <geometry>
                <mesh filename="package://pentapede/meshes/hatch.dae" scale="1.0 1.0 1.0"/>
            </geometry>
        </visual>
        <inertial>
            <origin rpy="0 0 0" xyz="0.116 0.0 0.0758"/>
            <mass value="0.142"/>
            <inertia ixx="0.001" ixy="0.001" ixz="0.001" iyy="0.001" iyz="0.001" izz="0.001"/>
        </inertial>
    </link>
</robot>
